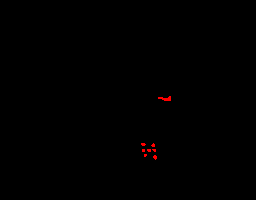Target: (158, 96, 171, 101), (153, 155, 157, 160), (151, 143, 155, 147), (141, 143, 146, 146), (147, 149, 151, 152), (152, 149, 156, 152), (142, 149, 145, 152), (144, 154, 147, 157)
